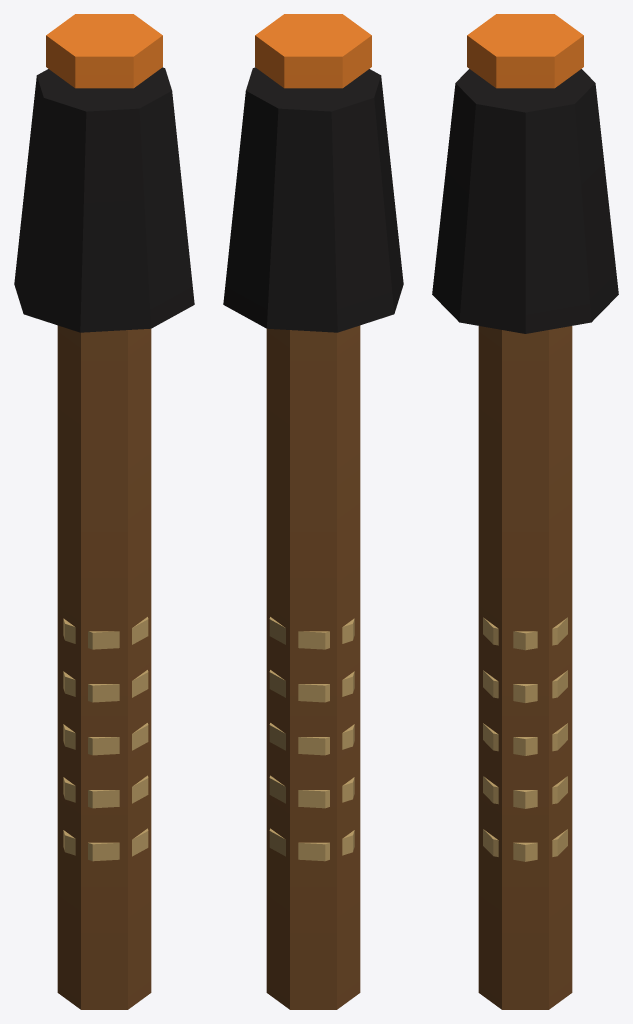
Rendered from item_torch.glb.
3 renders of one model, left to right at view 1: azimuth 30°, elevation 25°; view 2: azimuth 150°, elevation 25°; view 3: azimuth 270°, elevation 25°, orthographic.
Parts seen in each view (by area): view 1: item_torch, item_torch_detail; view 2: item_torch, item_torch_detail; view 3: item_torch, item_torch_detail.
Part boxes in pixels (<box>): item_torch: <box>14,14,194,1009</box>; item_torch_detail: <box>63,617,148,861</box>; item_torch: <box>223,14,403,1009</box>; item_torch_detail: <box>269,617,354,861</box>; item_torch: <box>432,14,618,1009</box>; item_torch_detail: <box>483,617,567,861</box>.
Size of the model in its own units: 0.16 by 0.905 by 0.16.
